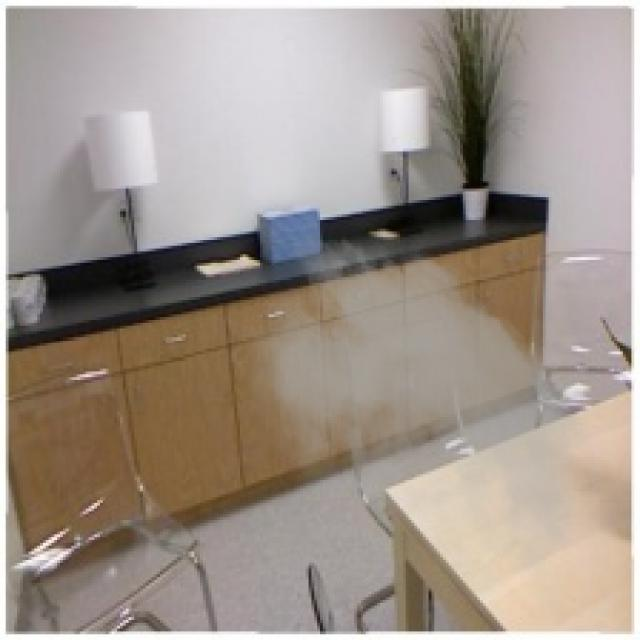smoke: (226, 223, 631, 634)
